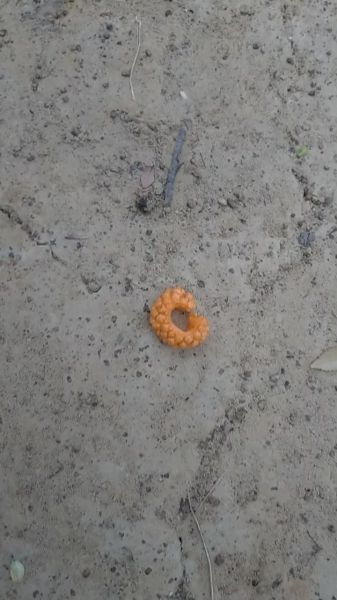eggs: (150, 281, 213, 356)
